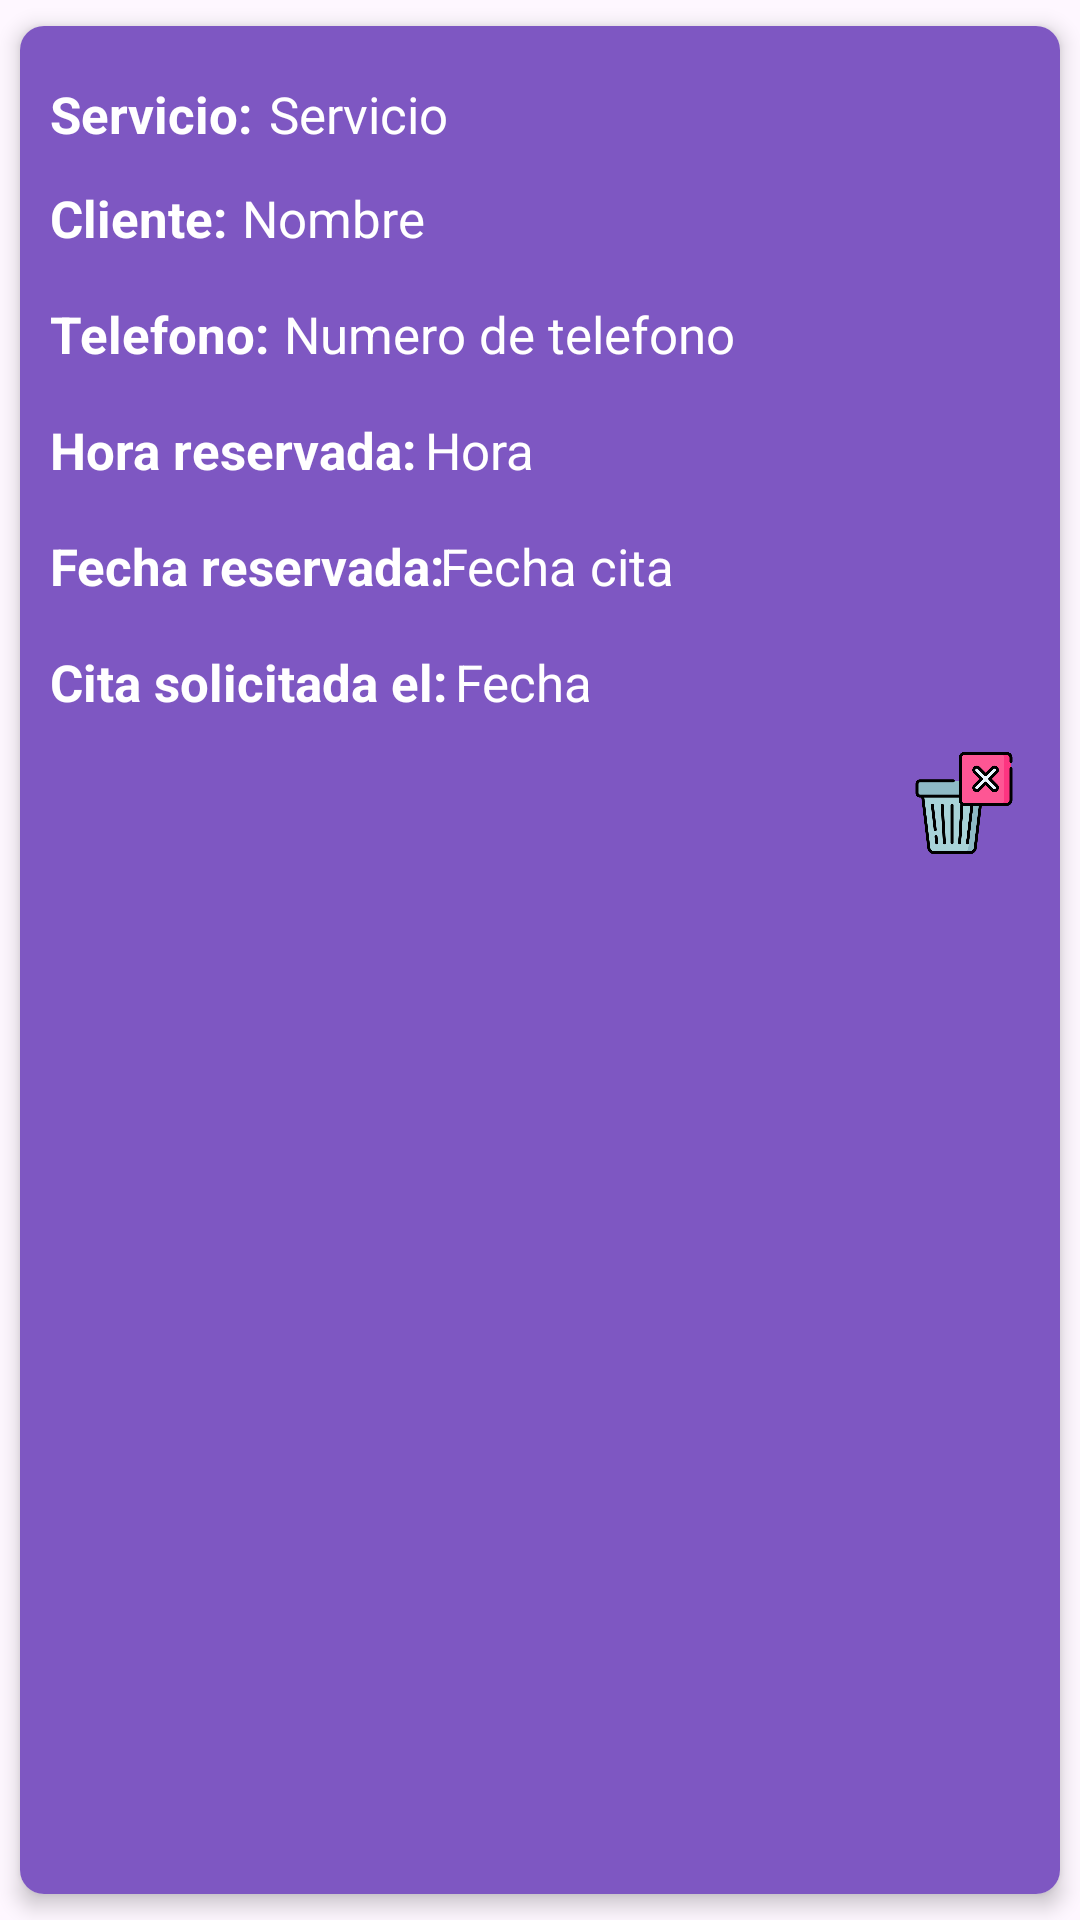

Where to tap for icons on this 1080×1920 app screen, as [x,y]:
delete: [964,803]
